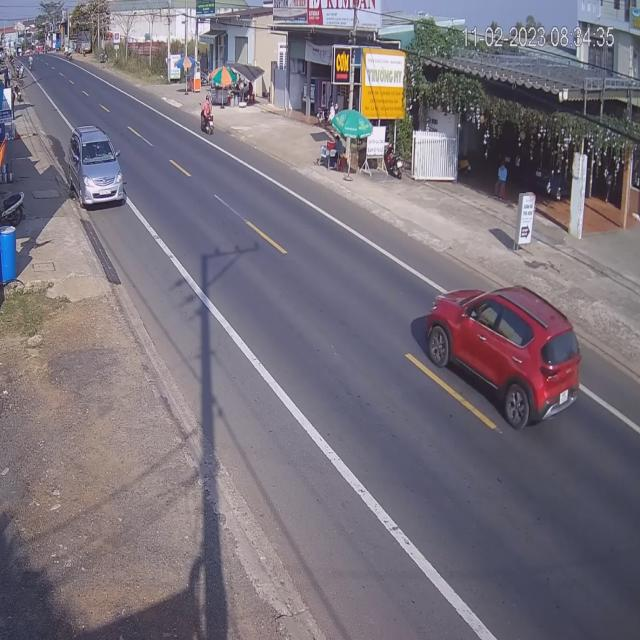car: (426, 292, 587, 430), (67, 127, 126, 210)
motorbike: (201, 96, 216, 137)
